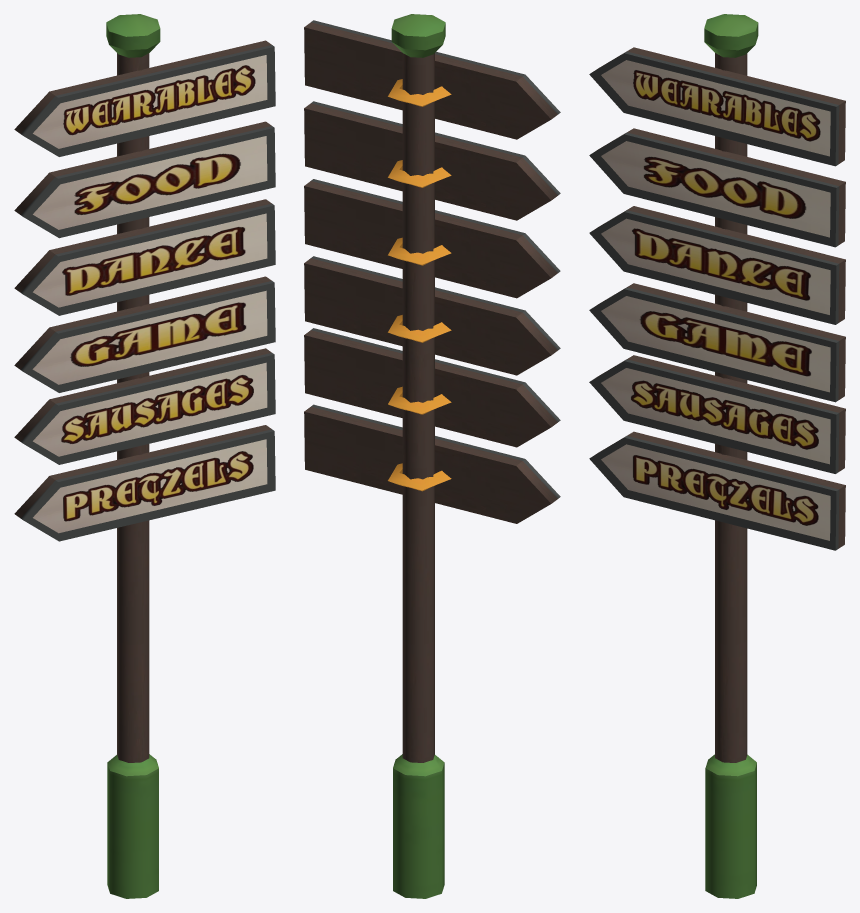
Rendered from sign-post.glb.
The picture shows the model from 3 angles, left to right: view 1: azimuth 30°, elevation 25°; view 2: azimuth 150°, elevation 25°; view 3: azimuth 330°, elevation 25°; orthographic projection.
Visible parts, largest first — view 1: SignPost; view 2: SignPost; view 3: SignPost.
Boxes of the visible parts, box(x1,y1,x2,y2) form: SignPost: box(14, 14, 275, 898); SignPost: box(304, 14, 560, 898); SignPost: box(589, 14, 845, 898).
Size of what is drawn, in the model's own units: 0.9969 by 3.32 by 0.2285.
Materials: 4 (4 with a texture image).
